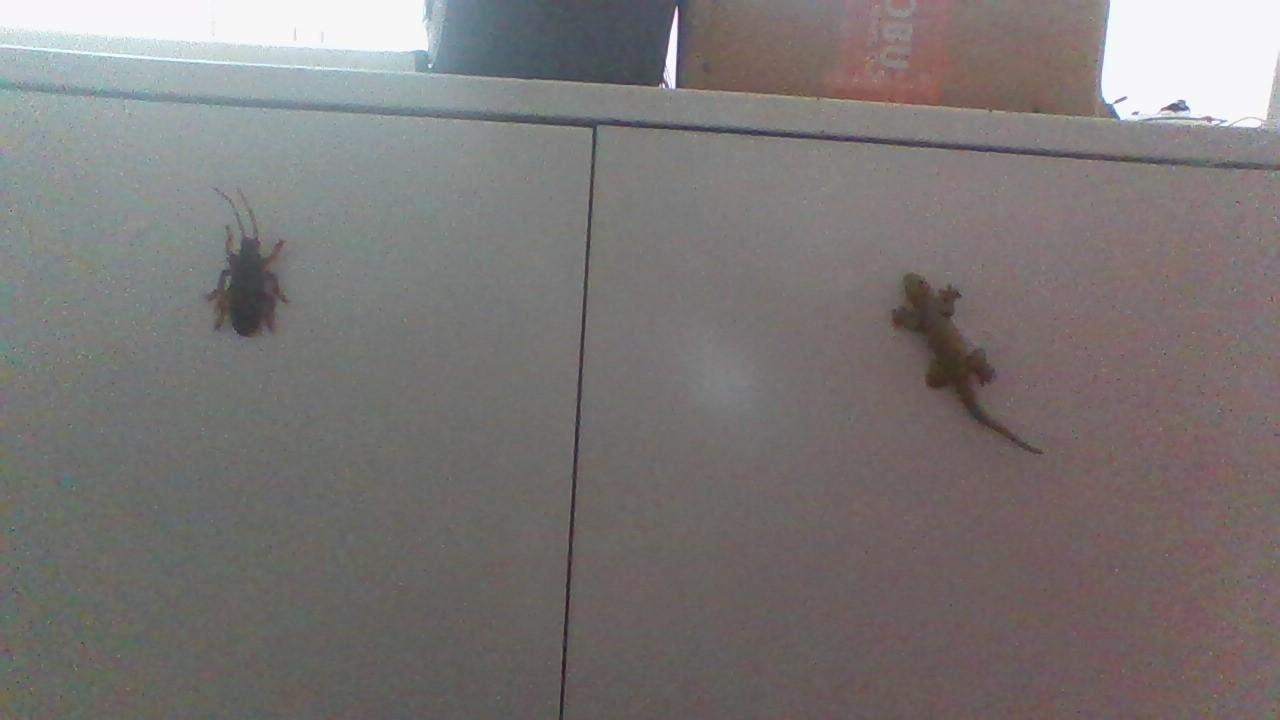cockroach: (195, 170, 298, 341)
lizard: (873, 250, 1041, 458)
